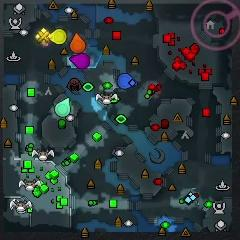Other: (35, 28, 50, 47)
p1: (118, 74, 136, 88)
p2: (55, 97, 71, 116)
p3: (71, 54, 90, 68)
p4: (49, 29, 67, 44)
p5: (70, 32, 86, 53)
